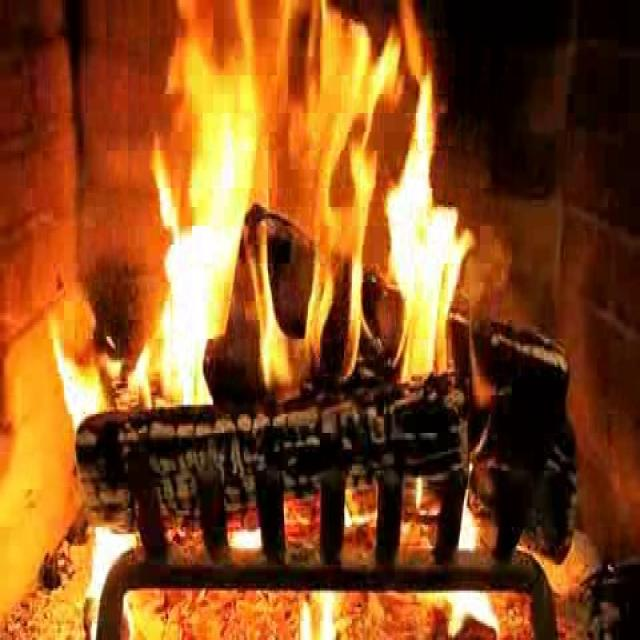fire: (136, 15, 467, 433)
